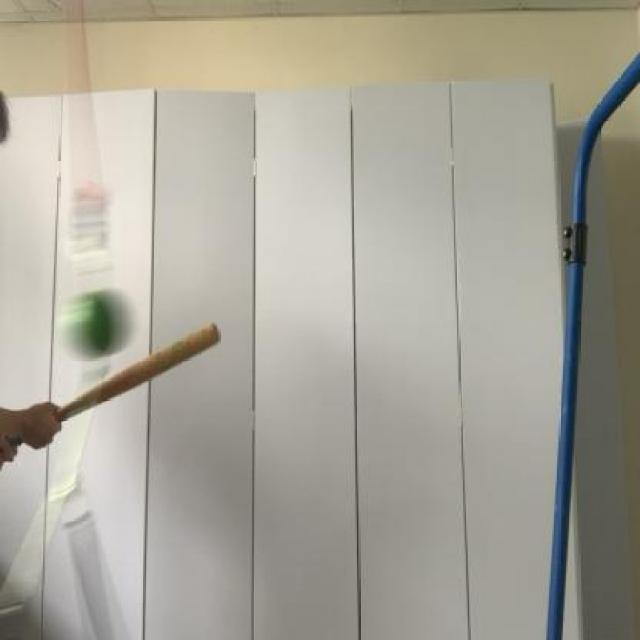baseball: (55, 290, 138, 361)
